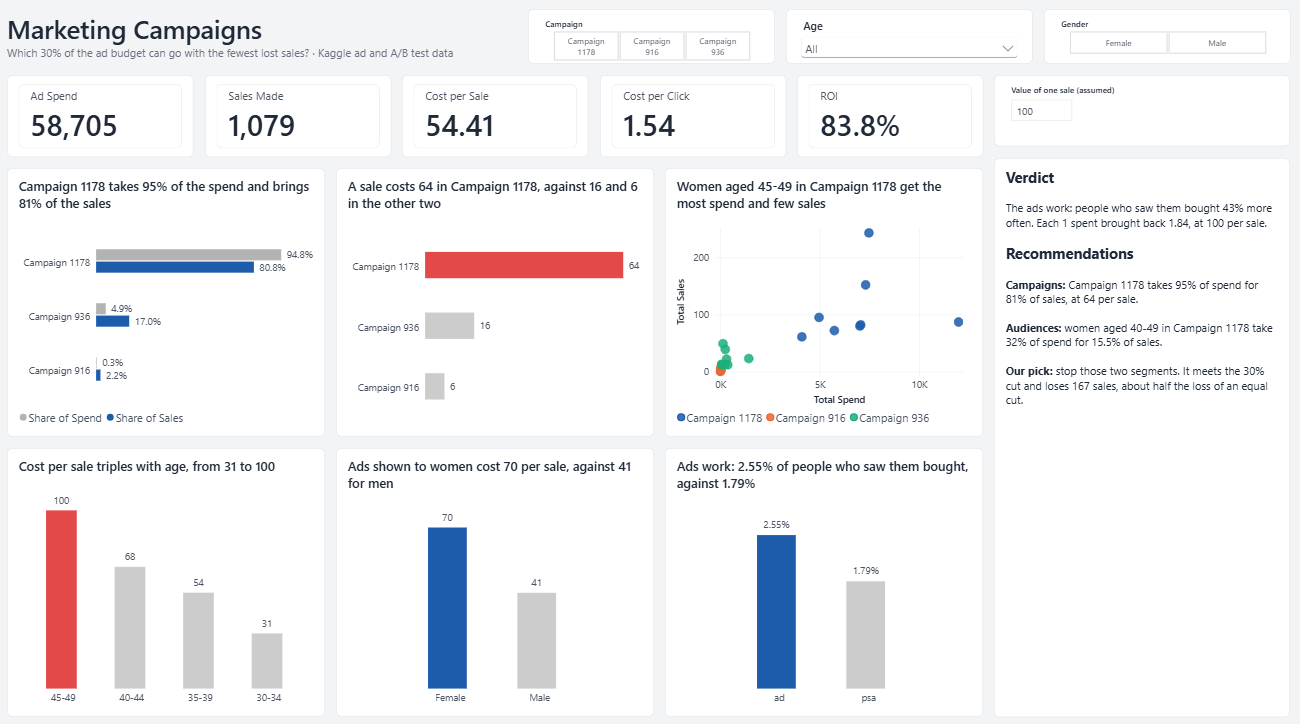

What the dashboard file says about the page in this screenshot:
{"tool":"powerbi","page":{"name":"Page 1","canvas":[1920,1080],"ordinal":0},"visuals":[{"type":"slicer","fields":{"Values":["Sale Value.Sale Value"]},"box":[1464,120,432,104],"z":0},{"type":"cardVisual","fields":{"Data":["ads.Spend Label"]},"box":[24,120,272,120],"z":1000},{"type":"cardVisual","fields":{"Data":["ads.Sales Label"]},"box":[312,120,272,120],"z":2000},{"type":"cardVisual","fields":{"Data":["ads.Cost per Sale"]},"box":[600,120,272,120],"z":3000},{"type":"cardVisual","fields":{"Data":["ads.Cost per Click"]},"box":[888,120,272,120],"z":4000},{"type":"cardVisual","fields":{"Data":["ads.ROI"]},"box":[1176,120,272,120],"z":5000},{"type":"textbox","box":[24,24,736,80],"z":6000},{"type":"clusteredBarChart","title":"Campaign 1178 takes 95% of the spend and brings 81% of the sales","fields":{"Category":["ads.campaign"],"Y":["ads.Share of Spend","ads.Share of Sales"]},"box":[24,256,464,392],"z":7000},{"type":"clusteredBarChart","title":"A sale costs 64 in Campaign 1178, against 16 and 6 in the other two","fields":{"Category":["ads.campaign"],"Y":["ads.Cost per Sale"]},"box":[504,256,464,392],"z":8000},{"type":"scatterChart","title":"Women aged 45-49 in Campaign 1178 get the most spend and few sales","fields":{"Category":["ads.segment"],"Series":["ads.campaign"],"X":["ads.Total Spend"],"Y":["ads.Total Sales"]},"box":[984,256,464,392],"z":9000},{"type":"clusteredColumnChart","title":"Cost per sale triples with age, from 31 to 100","fields":{"Category":["ads.age"],"Y":["ads.Cost per Sale"]},"box":[24,664,464,392],"z":10000},{"type":"clusteredColumnChart","title":"Ads shown to women cost 70 per sale, against 41 for men","fields":{"Category":["ads.gender"],"Y":["ads.Cost per Sale"]},"box":[504,664,464,392],"z":11000},{"type":"clusteredColumnChart","title":"Ads work: 2.55% of people who saw them bought, against 1.79%","fields":{"Category":["ab_test.test_group"],"Y":["ab_test.Conversion Rate"]},"box":[984,664,464,392],"z":12000},{"type":"slicer","fields":{"Values":["ads.campaign"]},"box":[784,24,360,80],"z":13000},{"type":"slicer","fields":{"Values":["ads.age"]},"box":[1160,24,360,80],"z":14000},{"type":"slicer","fields":{"Values":["ads.gender"]},"box":[1536,24,360,80],"z":15000},{"type":"textbox","box":[1464,240,432,816],"z":15001}]}

Visuals, with their boxes in screenshot pixels (x1, y1, x2, y2), scaled from the page's 1920x1080 canvas onto the 1300x724 screenshot:
slicer - Sale Value.Sale Value: box=[991, 80, 1284, 150]
cardVisual - ads.Spend Label: box=[16, 80, 200, 161]
cardVisual - ads.Sales Label: box=[211, 80, 395, 161]
cardVisual - ads.Cost per Sale: box=[406, 80, 590, 161]
cardVisual - ads.Cost per Click: box=[601, 80, 785, 161]
cardVisual - ads.ROI: box=[796, 80, 980, 161]
textbox: box=[16, 16, 515, 70]
"Campaign 1178 takes 95% of the spend and brings 81% of the sales" clusteredBarChart: box=[16, 172, 330, 434]
"A sale costs 64 in Campaign 1178, against 16 and 6 in the other two" clusteredBarChart: box=[341, 172, 655, 434]
"Women aged 45-49 in Campaign 1178 get the most spend and few sales" scatterChart: box=[666, 172, 980, 434]
"Cost per sale triples with age, from 31 to 100" clusteredColumnChart: box=[16, 445, 330, 708]
"Ads shown to women cost 70 per sale, against 41 for men" clusteredColumnChart: box=[341, 445, 655, 708]
"Ads work: 2.55% of people who saw them bought, against 1.79%" clusteredColumnChart: box=[666, 445, 980, 708]
slicer - ads.campaign: box=[531, 16, 775, 70]
slicer - ads.age: box=[785, 16, 1029, 70]
slicer - ads.gender: box=[1040, 16, 1284, 70]
textbox: box=[991, 161, 1284, 708]
